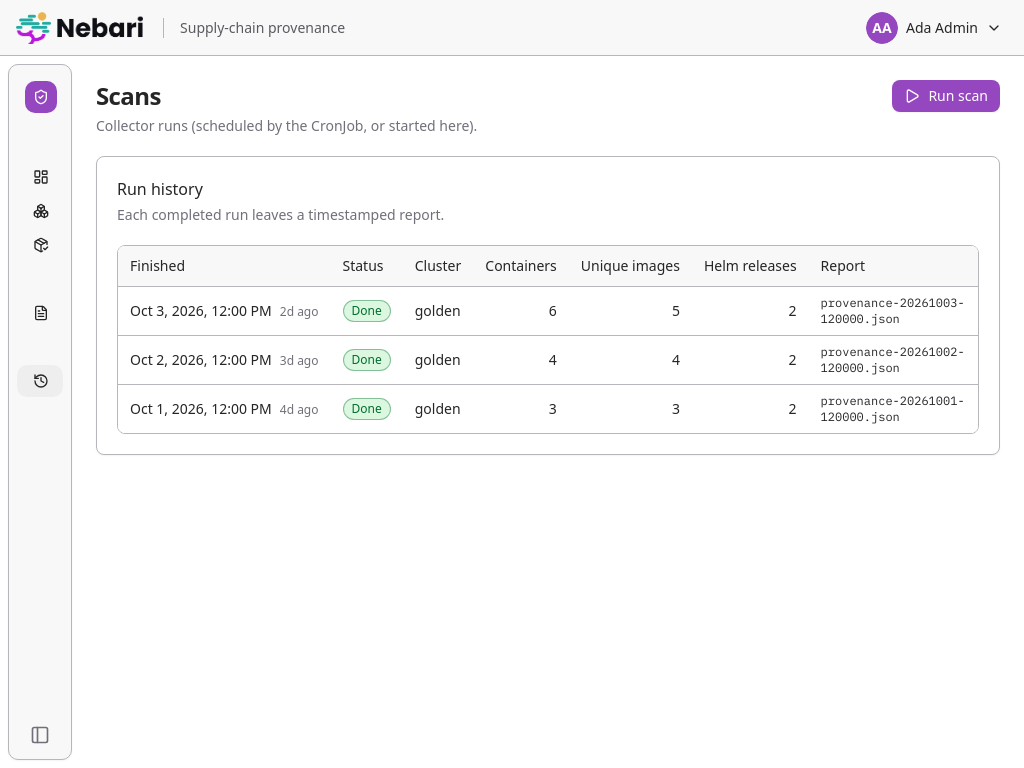
Test: provenance-only mode: Run scan › 409 / 403 / 503 from /api/scan toast without locking the app
What coordinates should you click on to do the following:
click the button "Run scan"
I would click on:
 (946, 96)
Its box is 892,80 -> 1000,112.
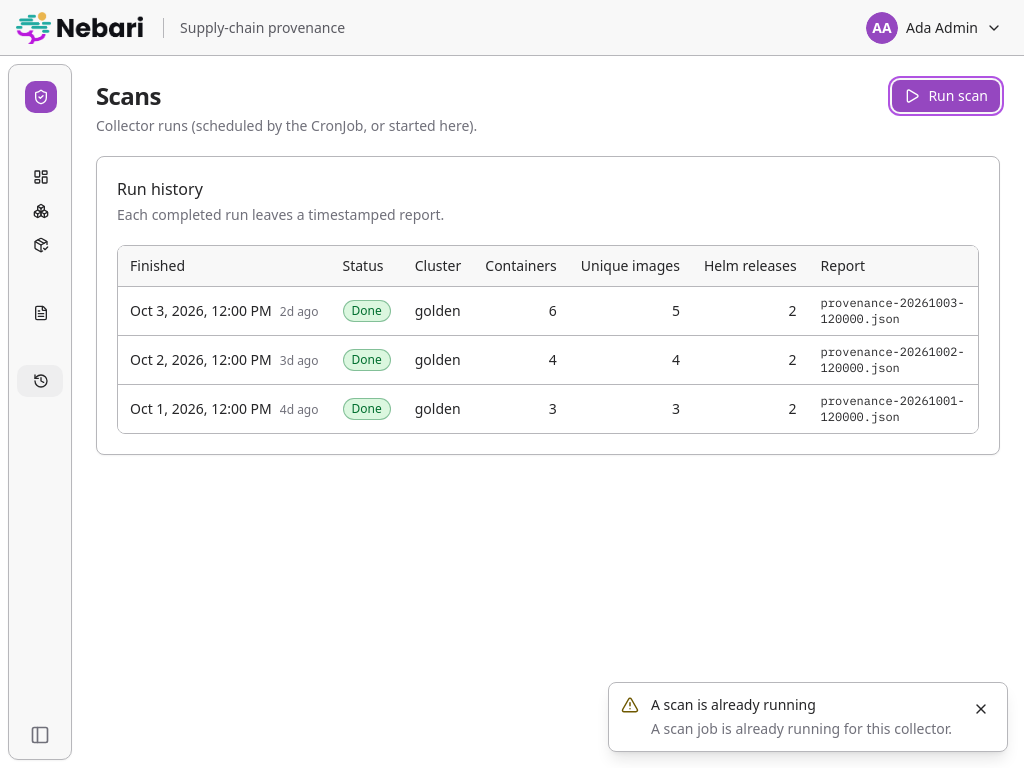
Check: the heading "A scan is already running" is shown, box 651,695 -> 816,714
What coordinates should you click on to do the following:
click the button "Run scan"
I would click on:
 (946, 96)
Its box is 892,80 -> 1000,112.
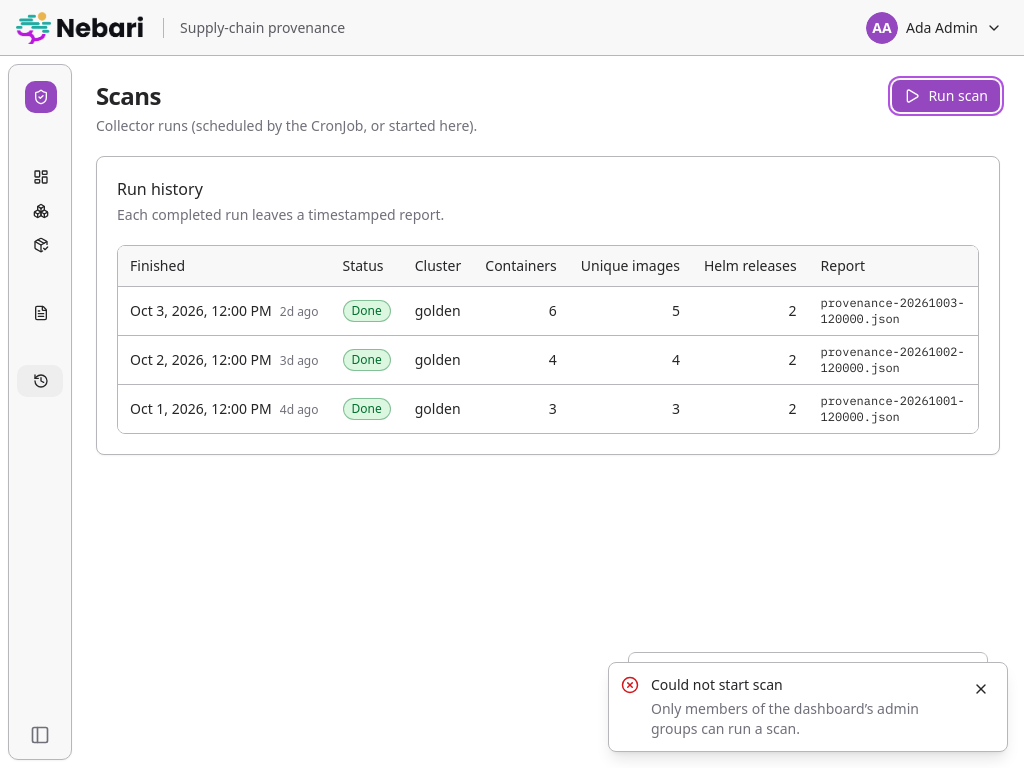
Check: the text "Only members of the dashboard’s admin groups can run a scan." is shown, box 651,699 -> 955,739
What coordinates should you click on to do the following:
click the button "Run scan"
I would click on:
 (946, 96)
Its box is 892,80 -> 1000,112.
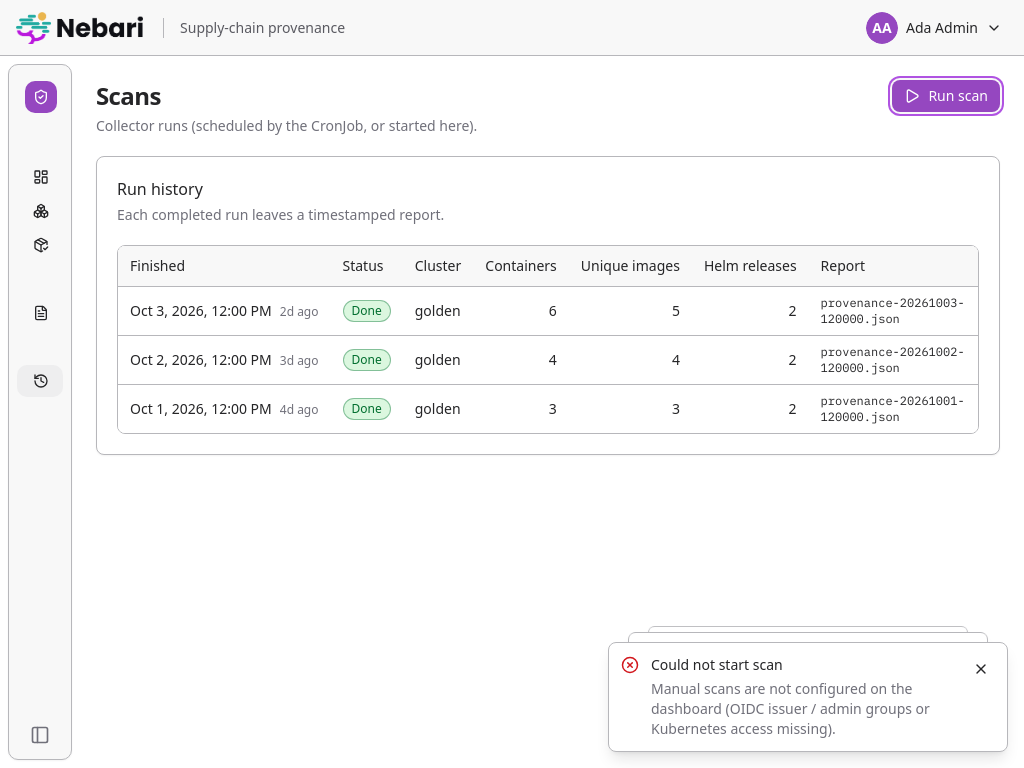
Check: the navigation bar named "Security Posture sections" is shown, box 8,64 -> 72,760
Check: the text "Manual scans are not configured" is shown, box 651,679 -> 930,738
